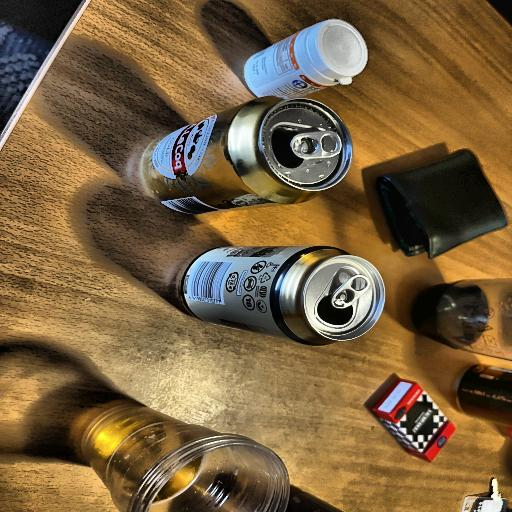A_LeCoq: (139, 95, 344, 210)
sandels: (178, 235, 388, 350)
